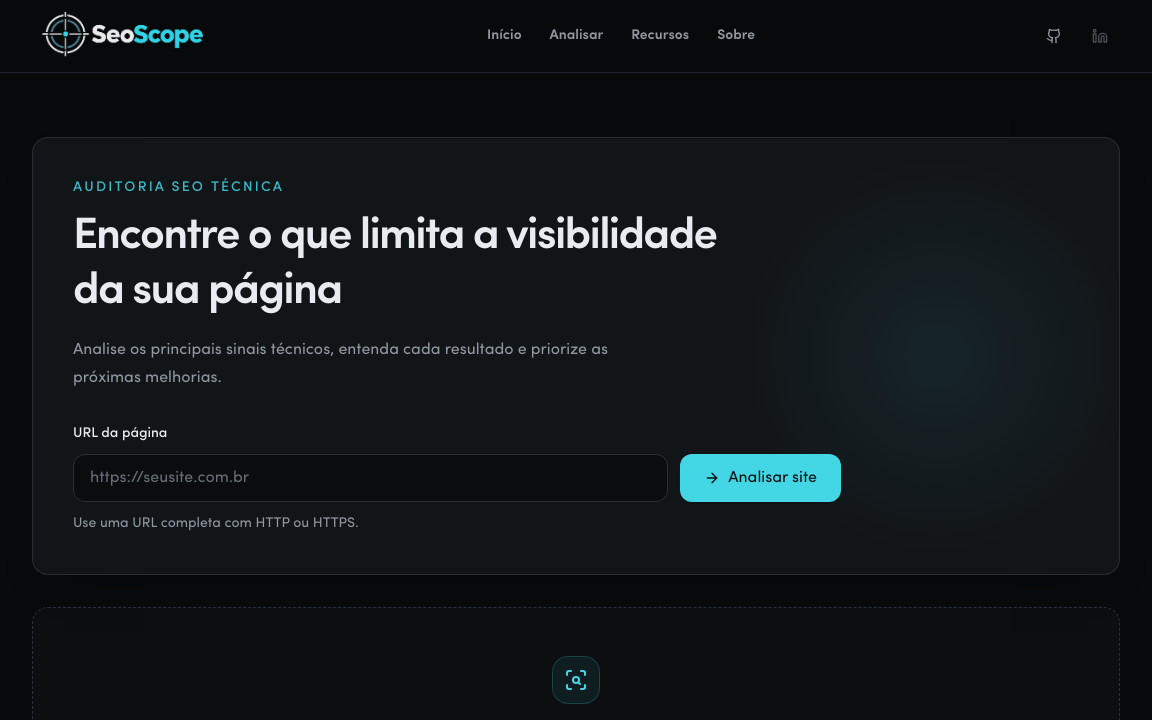
Home › apresenta a mensagem devolvida pela API em caso de erro
In the field labelled "URL da página": (371, 478) [73,454,668,502], type "https://example.com"
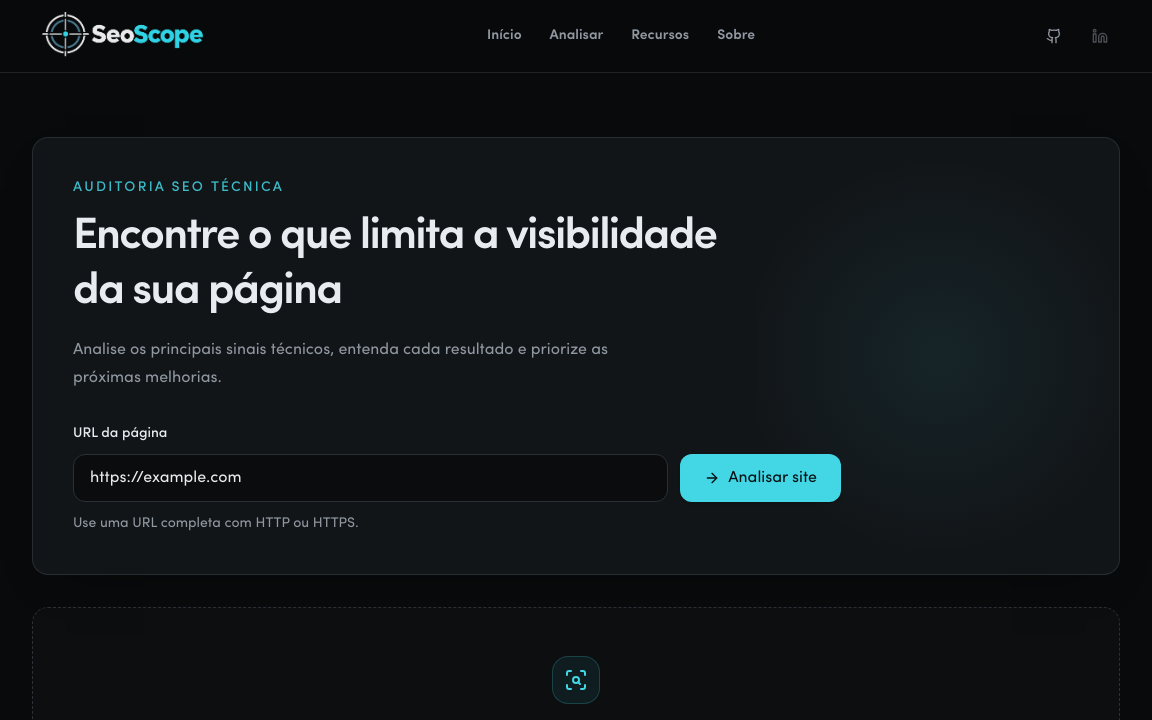
Click the button "Analisar site": (761, 478) [680,454,841,502]
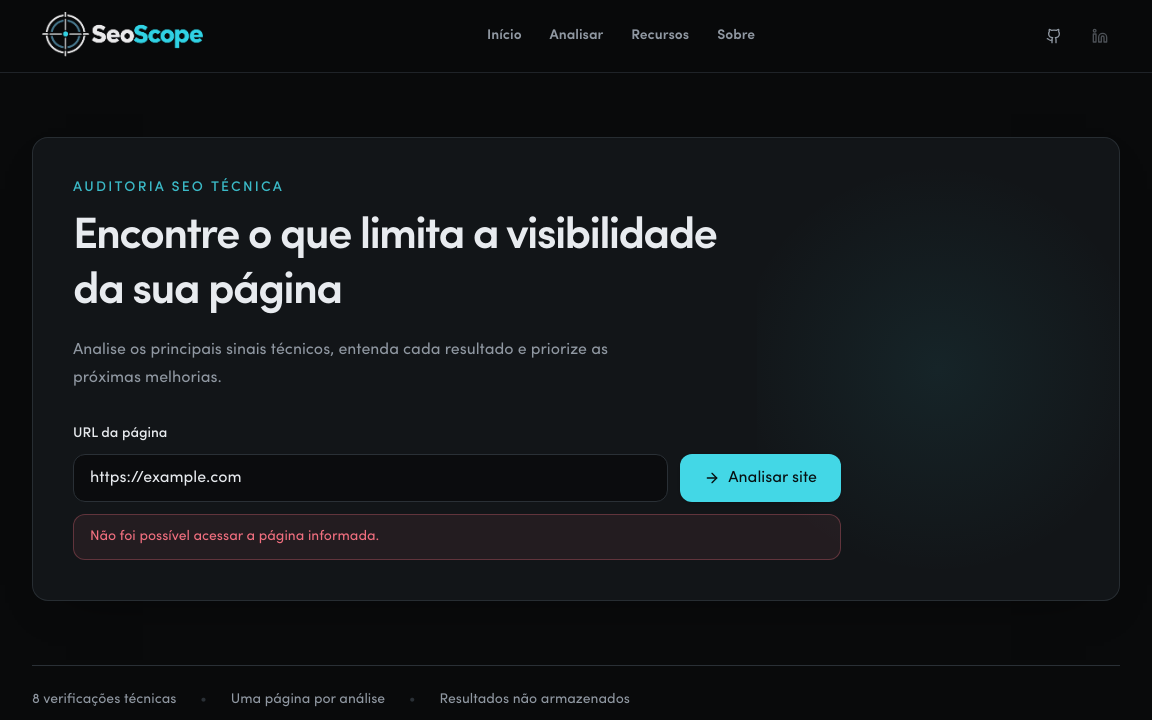
Expected: the message reads "Não foi possível acessar a página informada.", [90,529,379,544]
